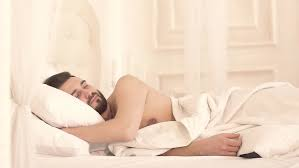sleeping: (10, 63, 294, 157)
